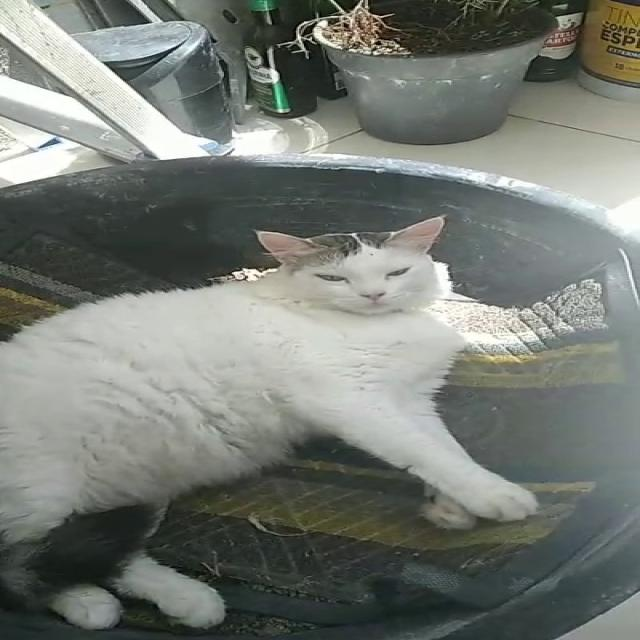Simba: (0, 225, 551, 639)
